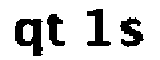1: (82, 8, 112, 50)
q: (13, 15, 46, 60)
s: (118, 14, 146, 51)
t: (47, 13, 66, 51)
